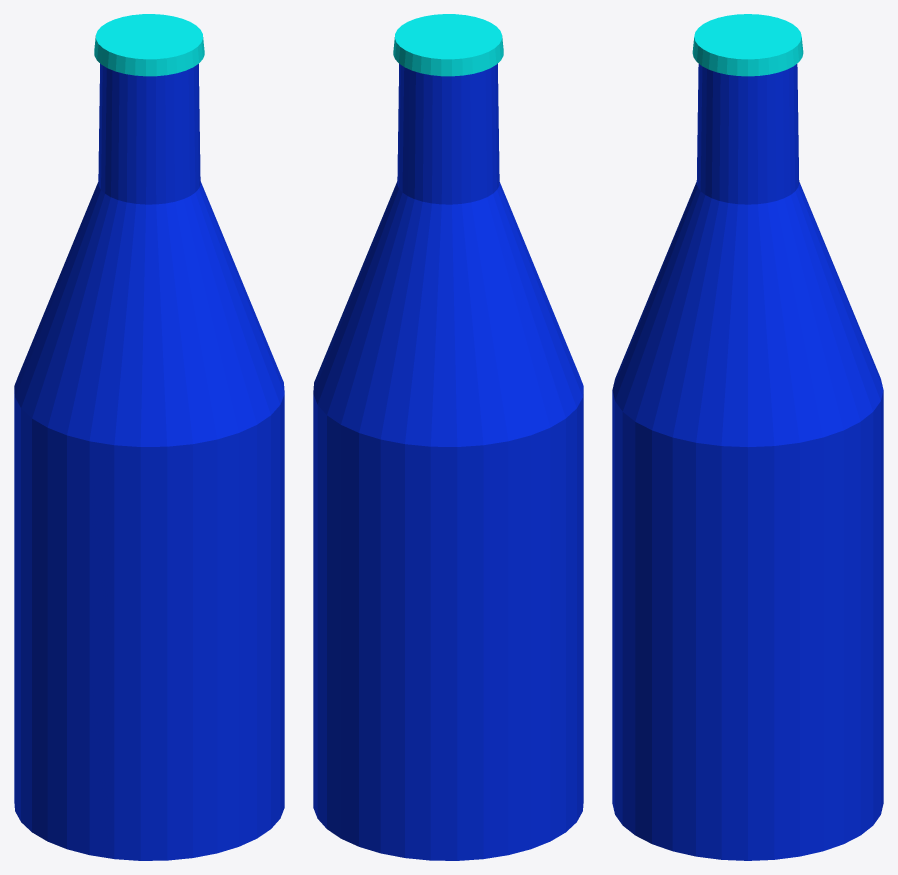
The model's file is bottle2.fbx.
The picture shows the model from 3 angles, left to right: view 1: azimuth 30°, elevation 25°; view 2: azimuth 150°, elevation 25°; view 3: azimuth 270°, elevation 25°; orthographic projection.
Parts seen in each view (by area): view 1: bottle2; view 2: bottle2; view 3: bottle2.
Part boxes in pixels (<box>): bottle2: <box>14,14,284,860</box>; bottle2: <box>313,14,583,860</box>; bottle2: <box>612,14,883,860</box>.
Size of the model in its own units: 200 by 624 by 200.
